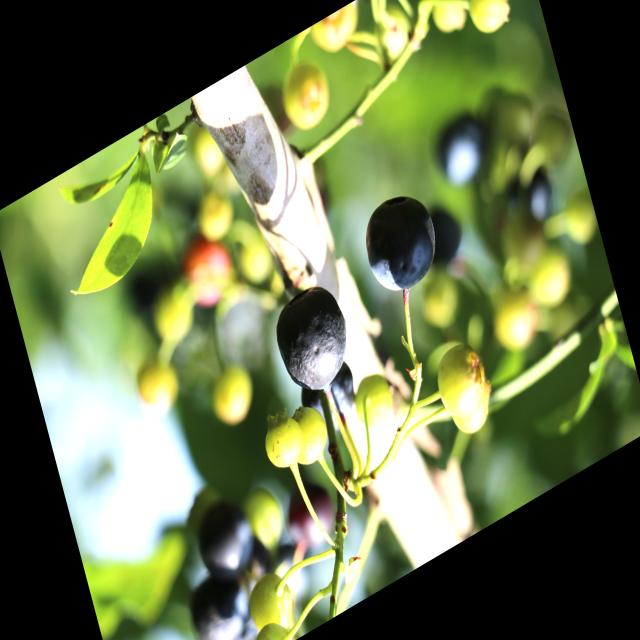blueberry: (349, 172, 446, 311), (268, 273, 360, 407), (190, 494, 260, 590), (276, 474, 343, 566), (294, 361, 364, 446), (430, 107, 493, 199), (182, 563, 257, 640)
blueberry-unripe: (430, 332, 494, 428), (277, 55, 334, 140), (242, 568, 298, 640), (257, 404, 307, 474), (134, 351, 183, 421), (210, 360, 256, 431), (288, 399, 332, 468), (460, 0, 515, 44), (426, 0, 470, 44)
